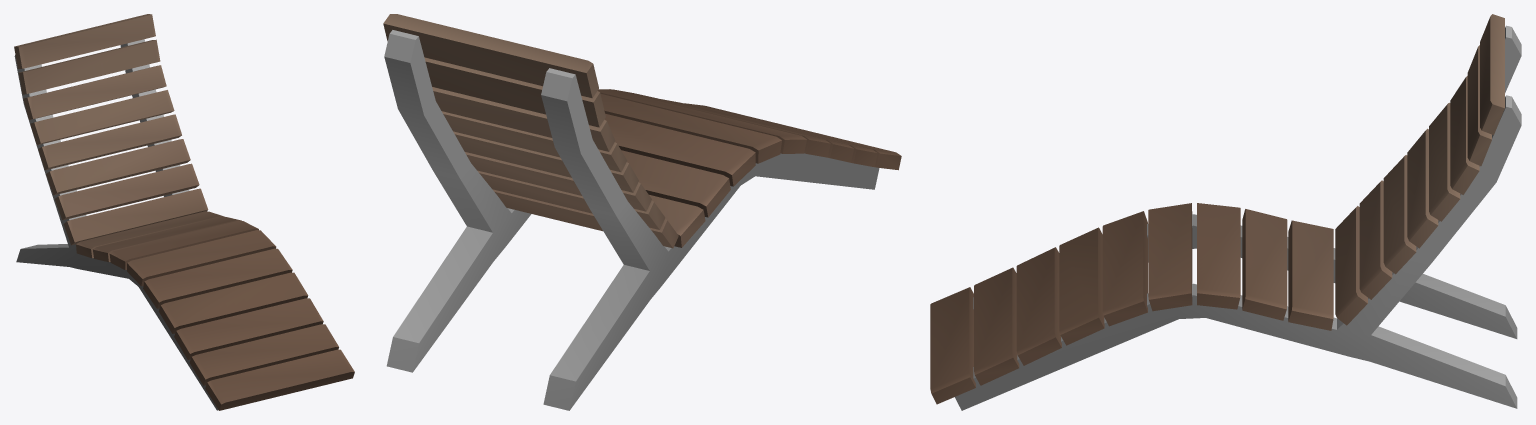
File: Sunbed.fbx
3 views of the same model, side by side, from view 1: azimuth 30°, elevation 25°; view 2: azimuth 150°, elevation 25°; view 3: azimuth 270°, elevation 25° (orthographic). The views are drawn at different scales.
Visible parts, largest first — view 1: Cube.081; view 2: Cube.081; view 3: Cube.081.
Boxes of the visible parts, <box> form: Cube.081: <box>14,14,354,410</box>; Cube.081: <box>383,14,901,410</box>; Cube.081: <box>930,14,1521,410</box>.
Bounding box in the file's own units: 1.56 × 4.33 × 2.52.
